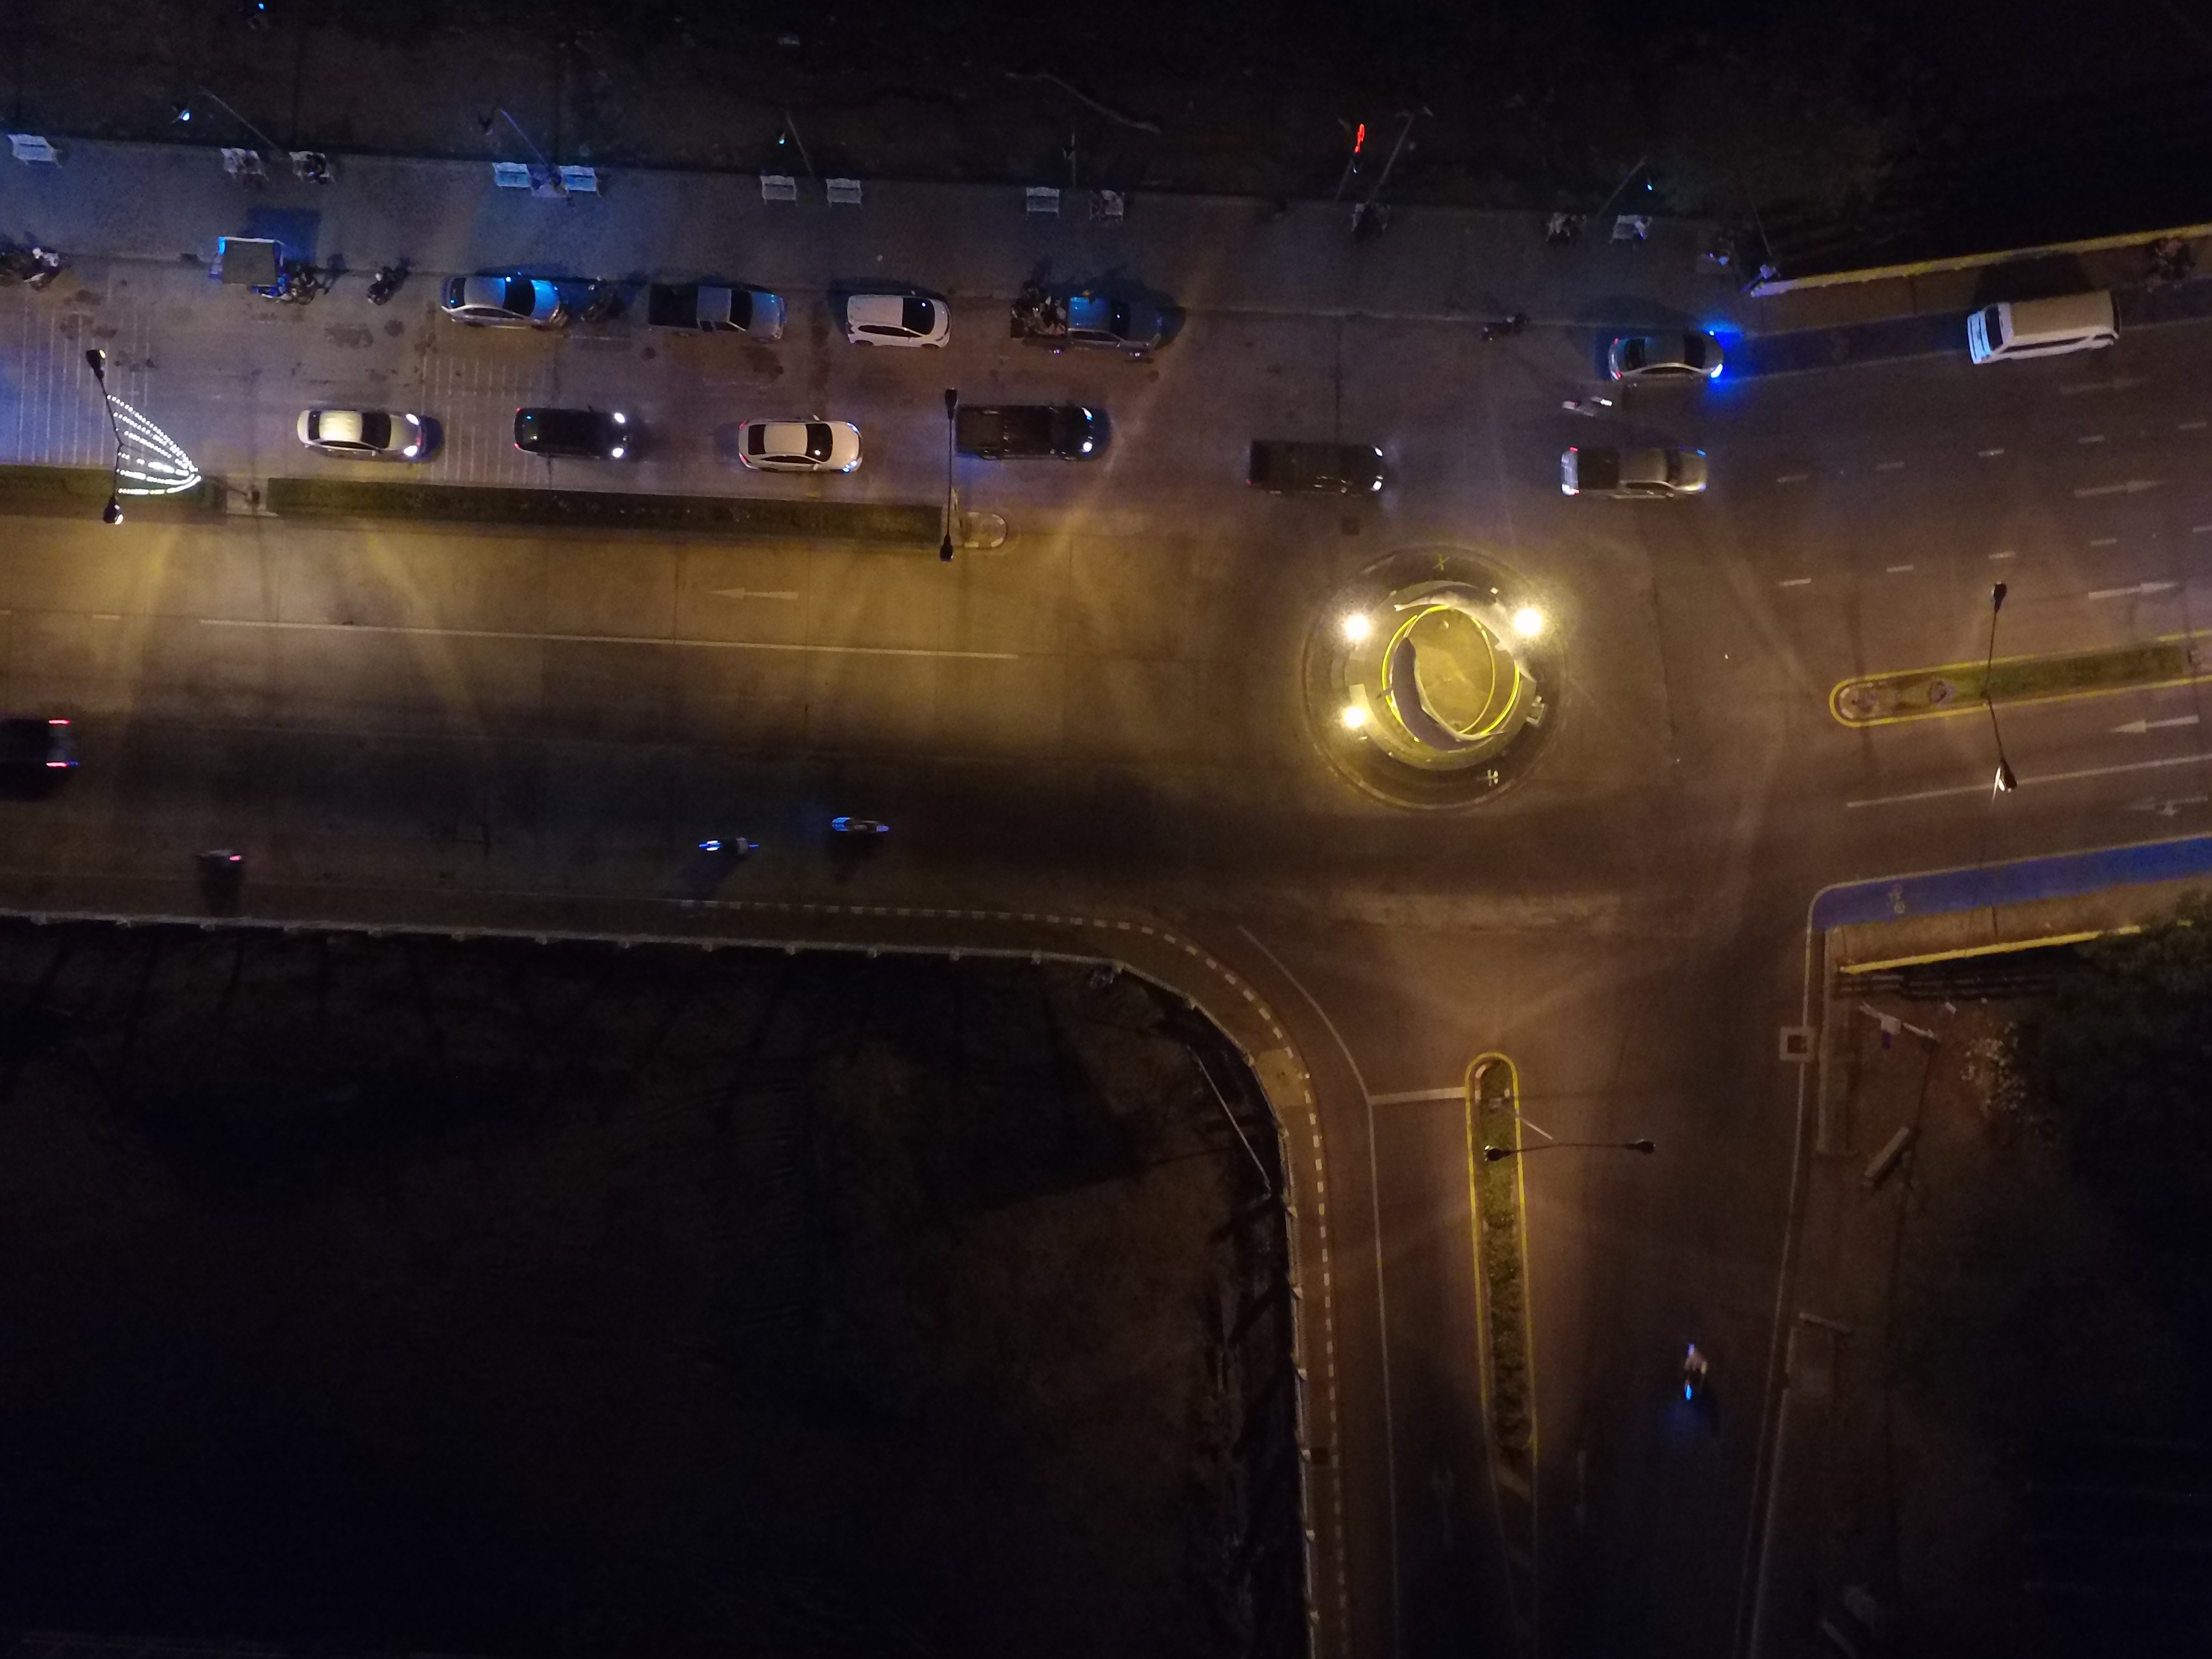car: (1001, 275, 1186, 368), (1226, 420, 1411, 512), (1538, 425, 1723, 518), (1946, 291, 2130, 383), (815, 288, 1000, 380), (622, 272, 806, 364), (406, 251, 590, 343), (472, 382, 657, 474), (695, 403, 880, 495), (930, 389, 1113, 481), (1552, 324, 1735, 416), (279, 389, 462, 481)
